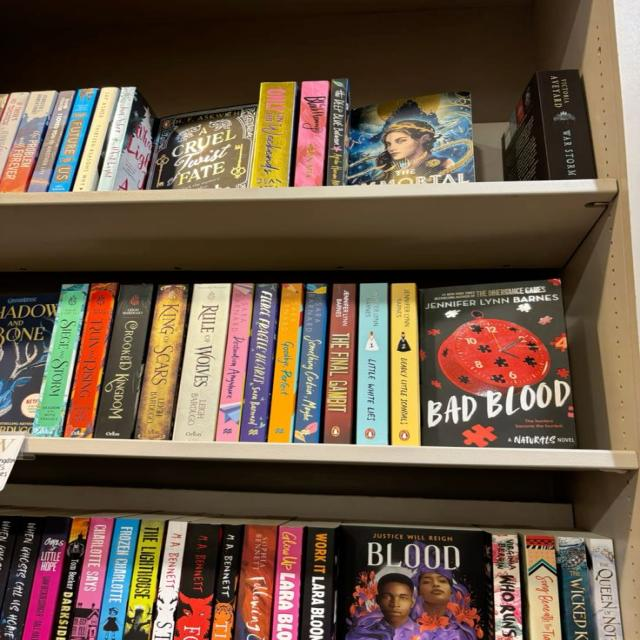book: (171, 284, 230, 441), (93, 285, 153, 439), (31, 283, 89, 437), (133, 284, 188, 440), (63, 283, 117, 438), (537, 70, 595, 180), (22, 516, 73, 640), (214, 284, 254, 442), (239, 284, 277, 442), (0, 91, 56, 193), (0, 516, 45, 640), (69, 517, 114, 640), (268, 284, 303, 442), (173, 523, 219, 640), (293, 284, 327, 442), (323, 284, 356, 444), (97, 518, 140, 640), (233, 524, 277, 640), (49, 88, 98, 192), (123, 520, 165, 640), (27, 91, 75, 192), (358, 283, 388, 444), (51, 517, 90, 640), (72, 87, 118, 191), (250, 83, 294, 187), (392, 284, 420, 445), (151, 521, 188, 640), (96, 87, 137, 191), (557, 536, 595, 640), (301, 526, 335, 640), (525, 535, 561, 640), (271, 526, 303, 640), (211, 524, 242, 640), (589, 539, 624, 640), (295, 81, 328, 187), (492, 533, 524, 640), (326, 79, 347, 185)
